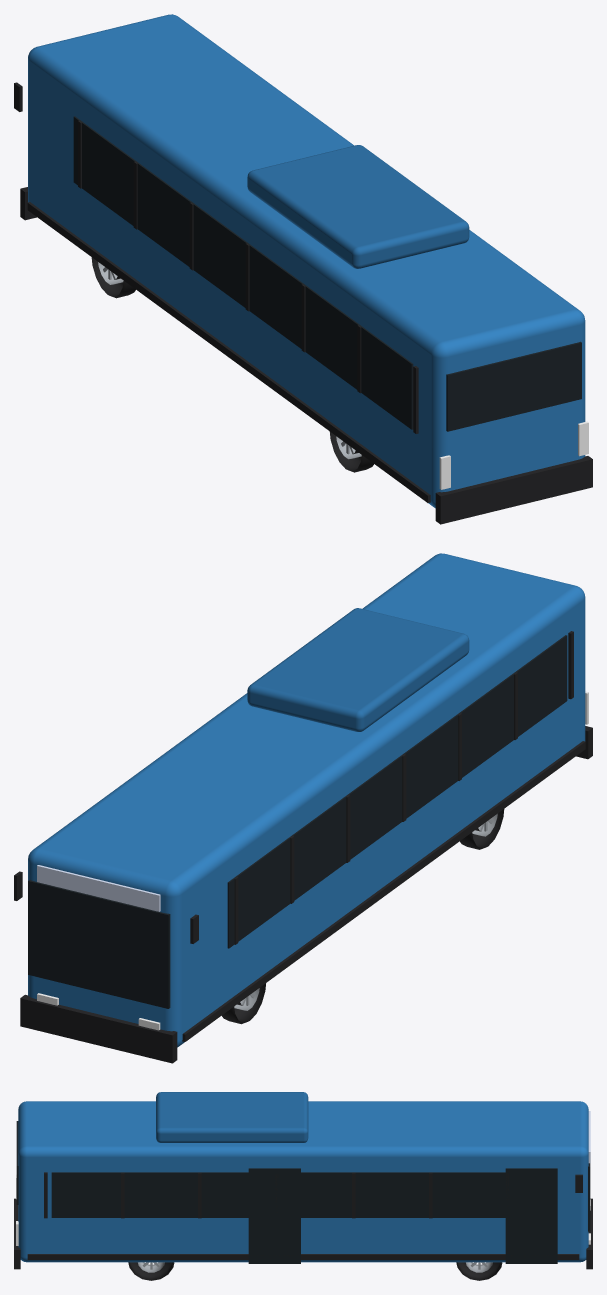
File: BUS_SH.glb
3 views of the same model, one above another, from view 1: azimuth 30°, elevation 25°; view 2: azimuth 150°, elevation 25°; view 3: azimuth 270°, elevation 25° (orthographic). The views are drawn at different scales.
Parts seen in each view (by area): view 1: carPaint_0, glass_1, paint_4, tread_2, lamps_6; view 2: carPaint_0, glass_1, paint_4, tread_2, screen_3; view 3: carPaint_0, glass_1, paint_4, tread_2, steel_5.
Part boxes in pixels (x1=…): carPaint_0: x1=28, y1=14, x2=585, y2=508; glass_1: x1=73, y1=116, x2=581, y2=431; paint_4: x1=247, y1=145, x2=469, y2=268; tread_2: x1=14, y1=82, x2=592, y2=524; lamps_6: x1=439, y1=421, x2=588, y2=489; carPaint_0: x1=28, y1=553, x2=585, y2=1047; glass_1: x1=28, y1=635, x2=567, y2=1008; paint_4: x1=247, y1=608, x2=469, y2=731; tread_2: x1=14, y1=631, x2=592, y2=1063; screen_3: x1=37, y1=865, x2=160, y2=911; carPaint_0: x1=18, y1=1101, x2=588, y2=1262; glass_1: x1=16, y1=1121, x2=590, y2=1263; paint_4: x1=156, y1=1092, x2=308, y2=1142; tread_2: x1=14, y1=1172, x2=592, y2=1280; steel_5: x1=138, y1=1262, x2=492, y2=1272.
Size of the model in its own units: 3 by 3.42 by 12.18.
